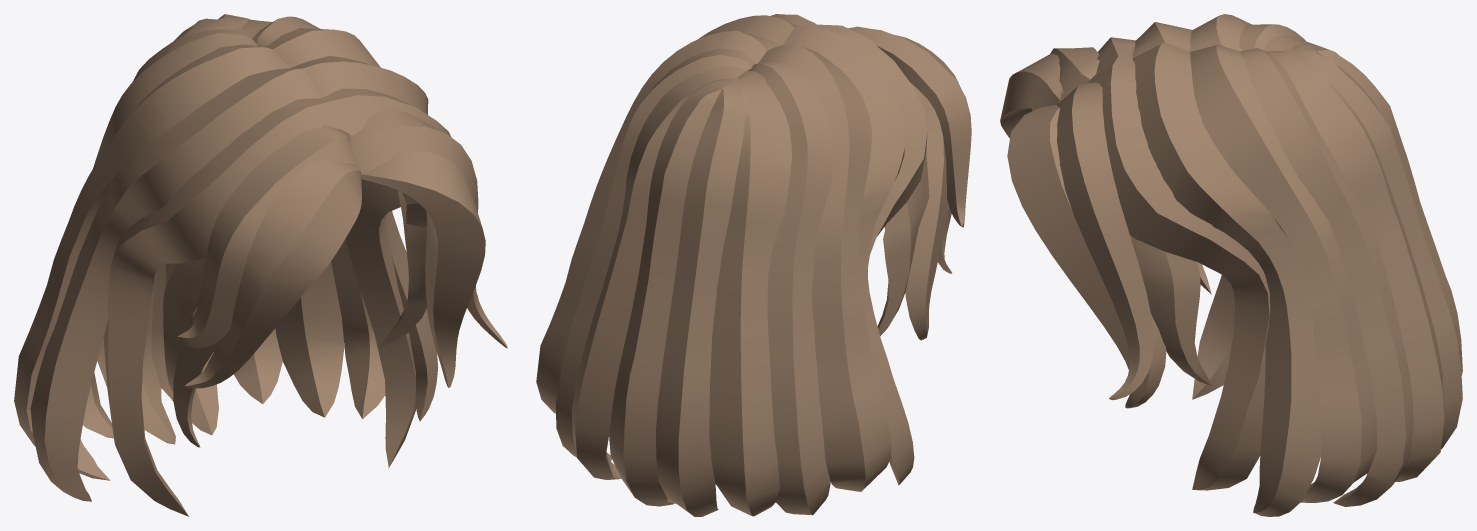
The model's file is quaternius_hair_long.glb.
The picture shows the model from 3 angles, left to right: view 1: azimuth 30°, elevation 25°; view 2: azimuth 150°, elevation 25°; view 3: azimuth 270°, elevation 25°; orthographic projection. The views are drawn at different scales.
Visible parts, largest first — view 1: Hair_Long; view 2: Hair_Long; view 3: Hair_Long.
Boxes of the visible parts, x1,y1,x2,y2 form: Hair_Long: (14,14,507,516); Hair_Long: (536,14,971,516); Hair_Long: (1000,14,1462,516).
Bounding box in the file's own units: 0.2447 × 0.2764 × 0.2704.
